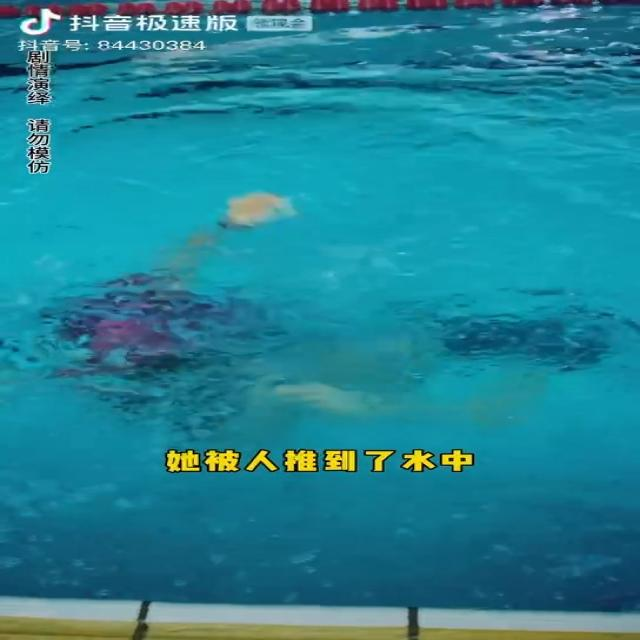Drowning: (61, 193, 588, 437)
